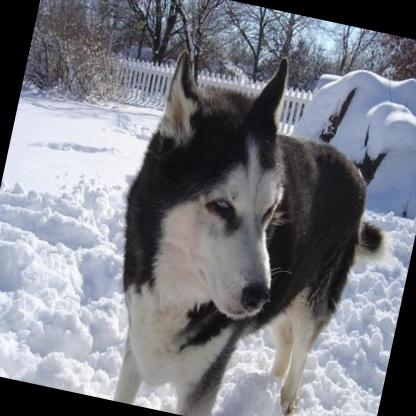Siberian_husky: (80, 25, 416, 416)
